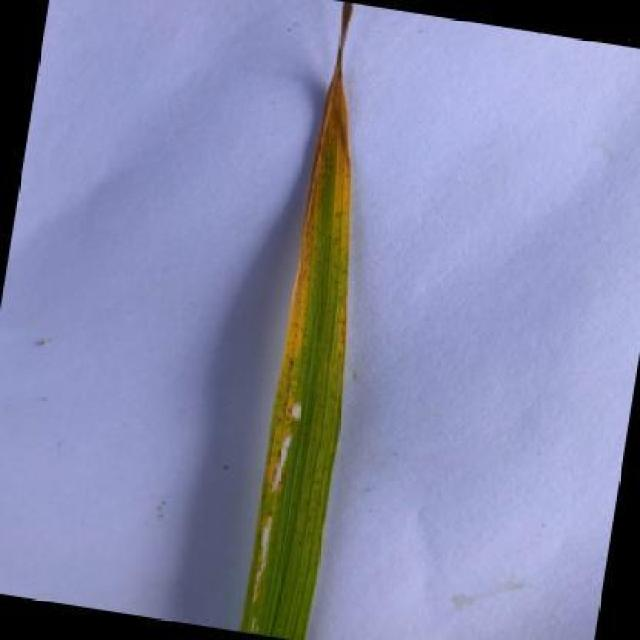Rice False Smut: (232, 20, 403, 640)
